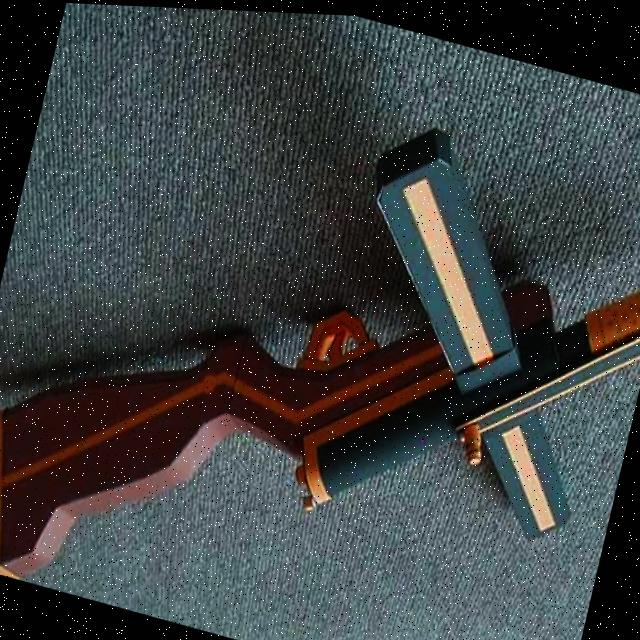firearm: (0, 33, 640, 640)
